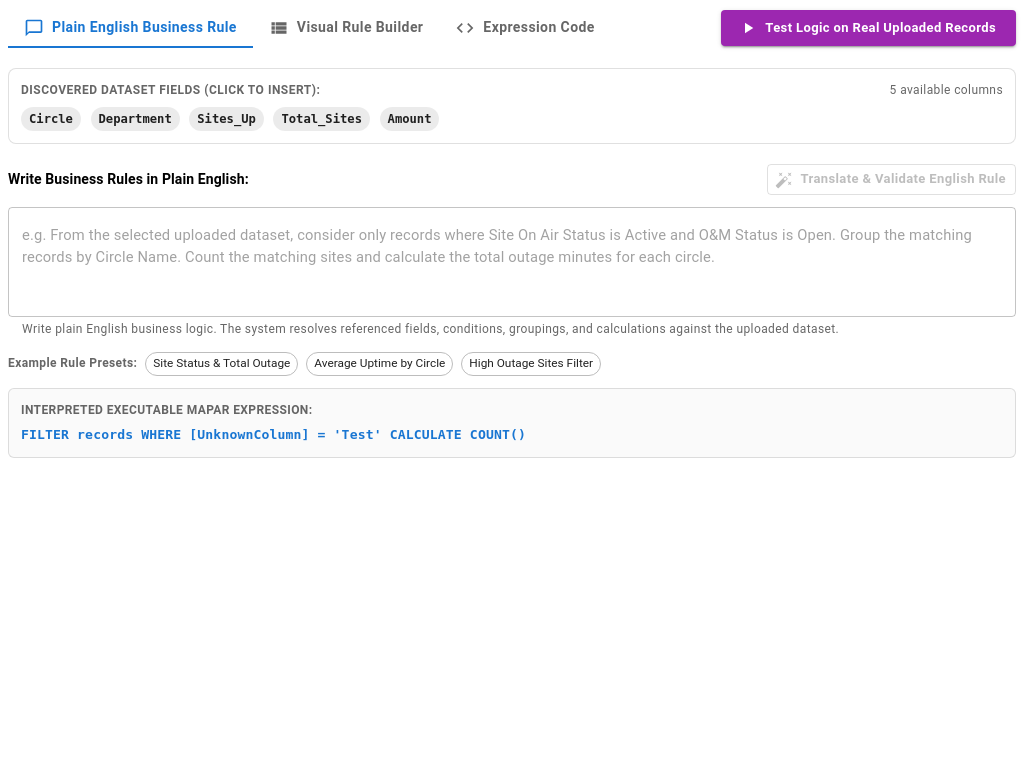
Test: KPILogicEditor Component › displays actionable error message when test fails
Click the button "Test Logic on Real Uploaded Records": [869, 28] box [721, 10, 1016, 46]
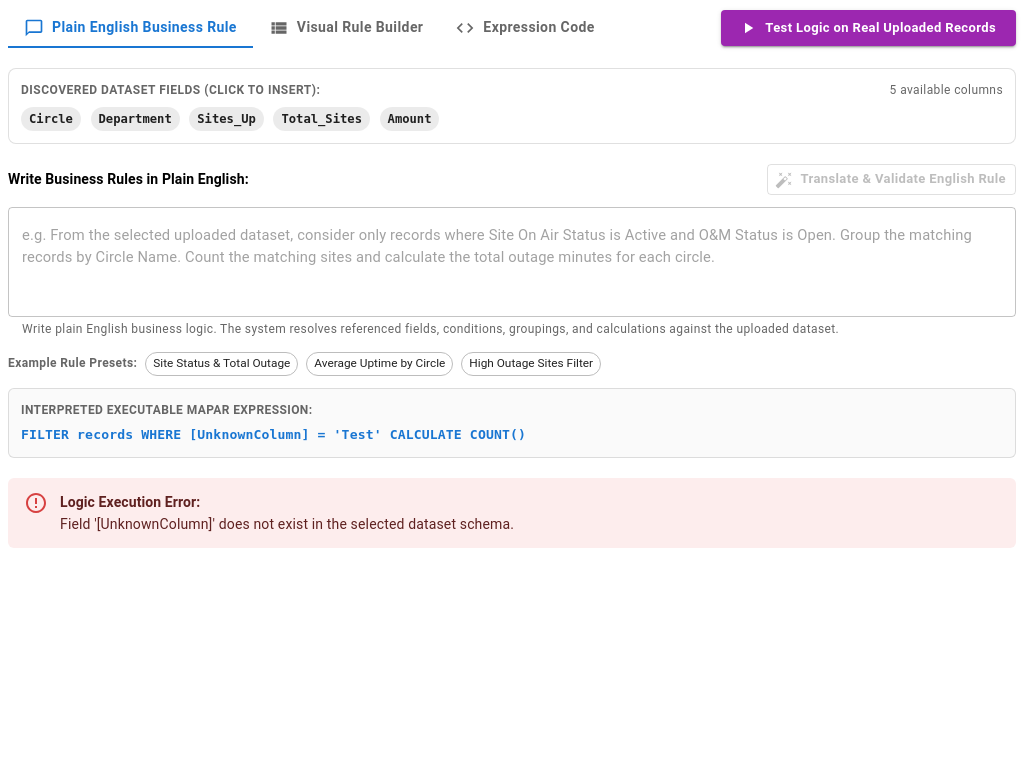
Check: the heading "Logic Execution Error:" is shown, box [60, 494, 200, 510]
Check: the text "Field '[UnknownColumn]' does not exist" is shown, box [60, 516, 514, 532]
